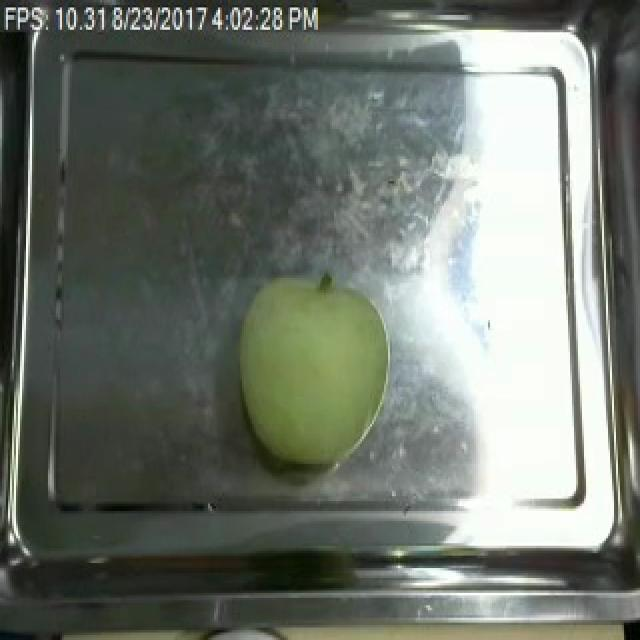50-_ripeness: (233, 259, 399, 489)
